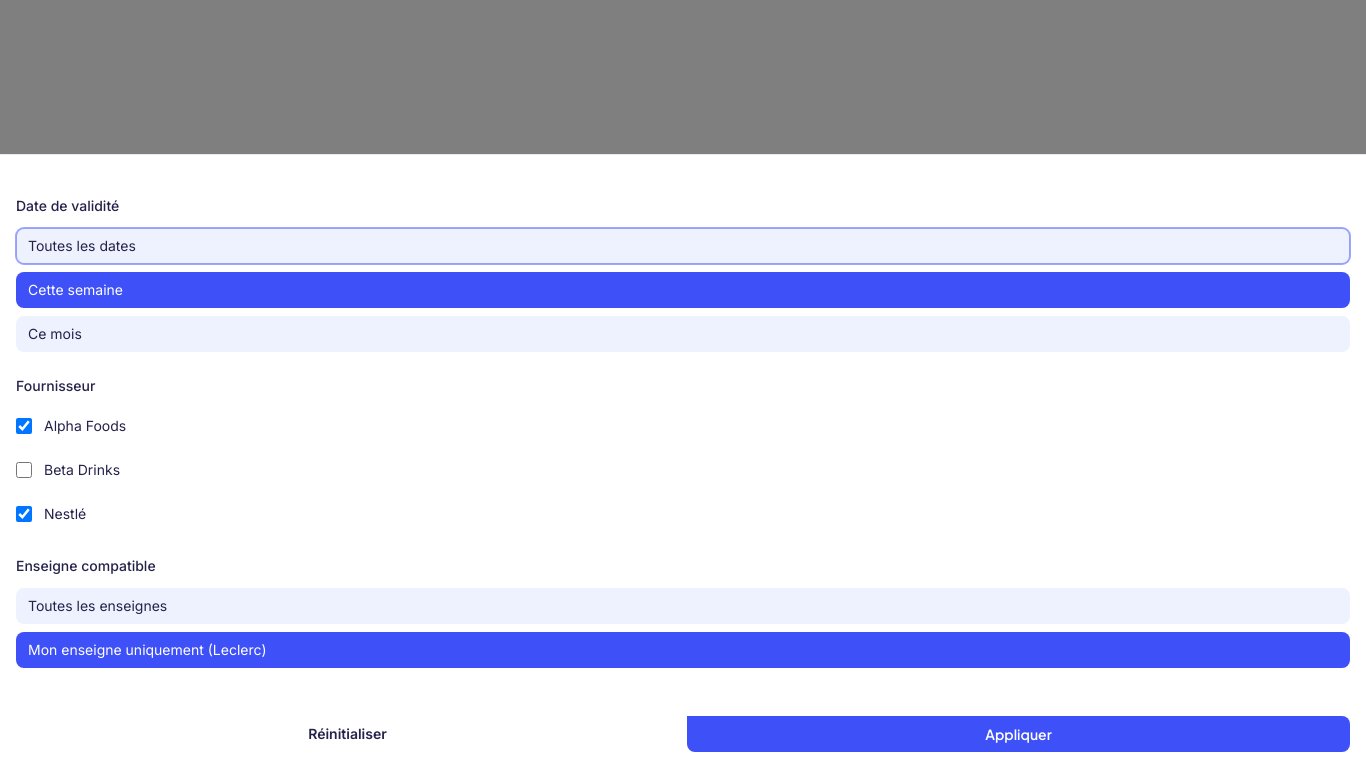
Test: OfferFilterSheet › resets visual state after clicking "Réinitialiser"
(page scrolled)
Expected: the checkbox labelled "Alpha Foods" is checked, 16,418 -> 32,434
Expected: the checkbox labelled "Nestlé" is checked, 16,506 -> 32,522
Click the button "Réinitialiser" at (348, 734), box 16,716 -> 679,752
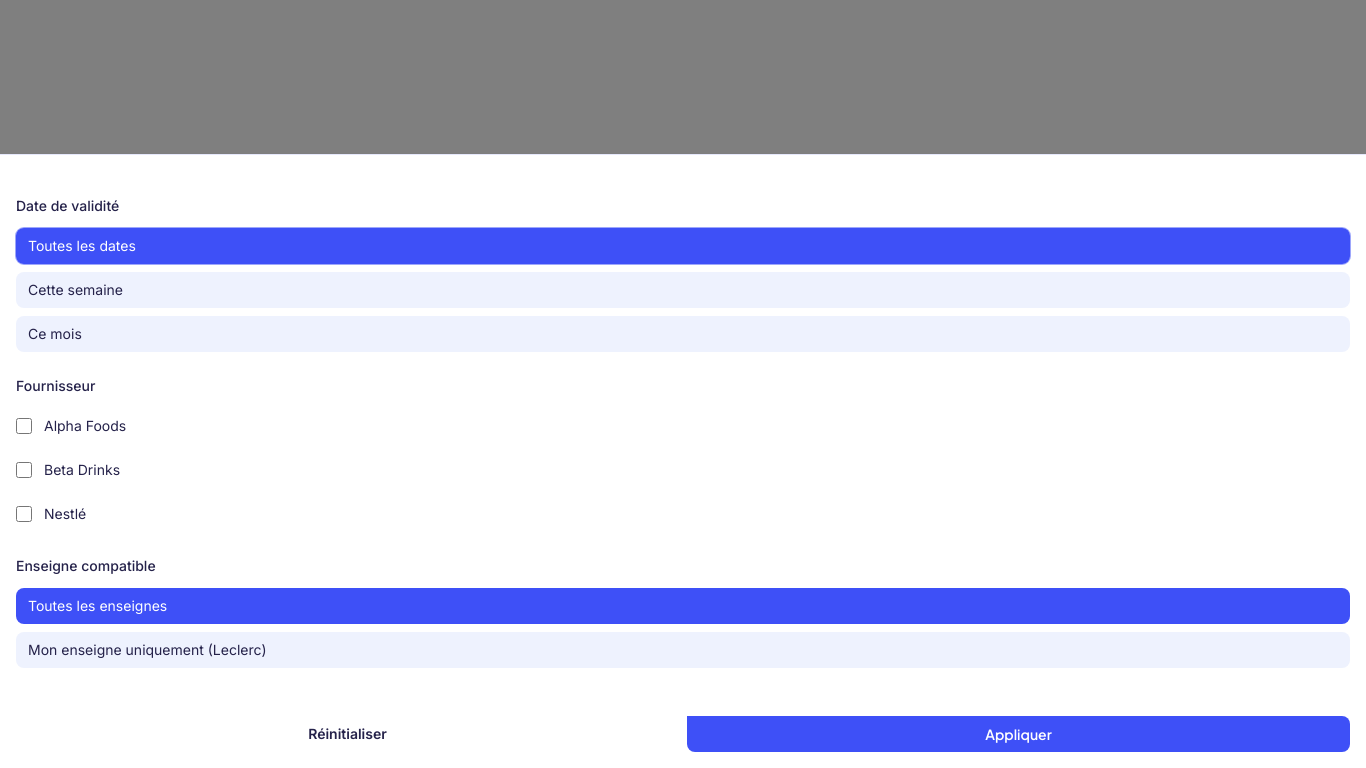
Now the checkbox labelled "Alpha Foods" is not checked, box 16,418 -> 32,434
Now the checkbox labelled "Nestlé" is not checked, box 16,506 -> 32,522
